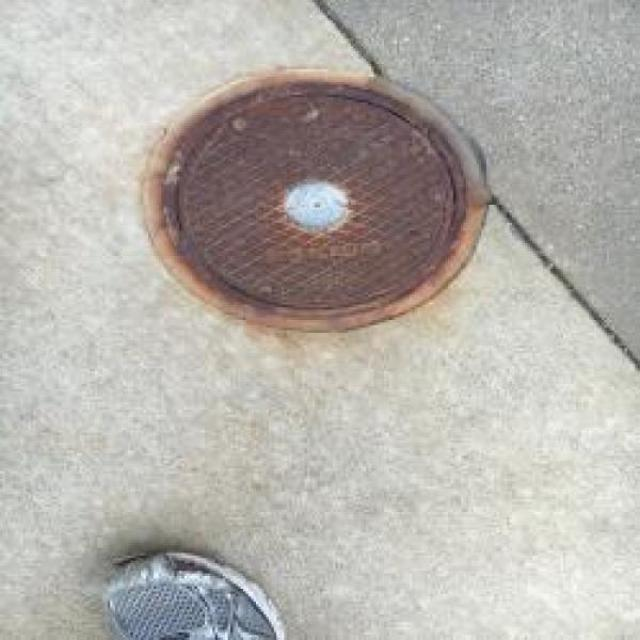Crack: (311, 0, 639, 375)
